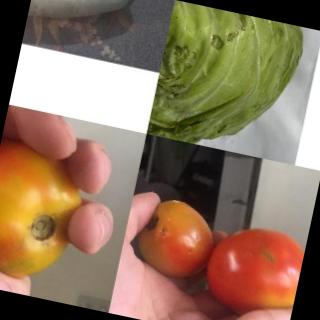Tomat: (133, 184, 311, 320), (1, 129, 95, 290)
